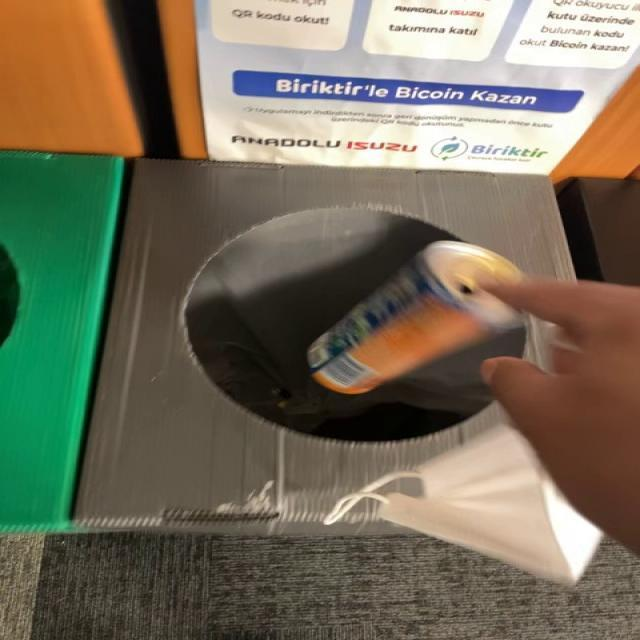Bin: (76, 159, 575, 534)
Metal: (308, 241, 524, 394)
